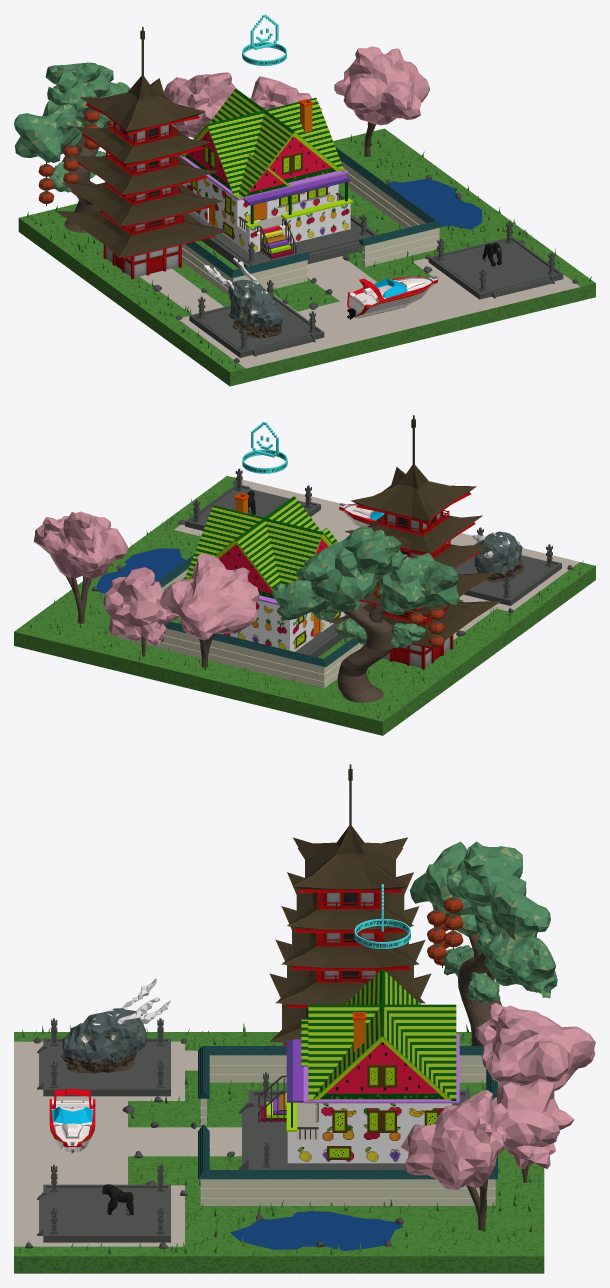
3 renders of one model, top to bottom at view 1: azimuth 30°, elevation 25°; view 2: azimuth 150°, elevation 25°; view 3: azimuth 270°, elevation 25°, orthographic. The views are drawn at different scales.
Visible parts, largest first — view 1: Cube.005, Cube.1063, OBJRANDOM_METEORITE, VEHICLES_BOAT, TYPE_PREMIUM; view 2: Cube.005, Cube.1063, OBJRANDOM_METEORITE, TYPE_PREMIUM, VEHICLES_BOAT; view 3: Cube.005, Cube.1063, OBJRANDOM_METEORITE, VEHICLES_BOAT, TYPE_PREMIUM.
Boxes of the visible parts, left/top/right/bottom form: Cube.005: left=14, top=26, right=595, bottom=386; Cube.1063: left=178, top=88, right=353, bottom=259; OBJRANDOM_METEORITE: left=204, top=257, right=283, bottom=338; VEHICLES_BOAT: left=347, top=276, right=437, bottom=319; TYPE_PREMIUM: left=242, top=14, right=286, bottom=65; Cube.005: left=14, top=415, right=595, bottom=735; Cube.1063: left=181, top=493, right=345, bottom=651; OBJRANDOM_METEORITE: left=472, top=531, right=524, bottom=582; TYPE_PREMIUM: left=242, top=421, right=287, bottom=473; VEHICLES_BOAT: left=339, top=503, right=384, bottom=527; Cube.005: left=14, top=764, right=595, bottom=1273; Cube.1063: left=258, top=969, right=459, bottom=1163; OBJRANDOM_METEORITE: left=61, top=978, right=170, bottom=1073; VEHICLES_BOAT: left=49, top=1089, right=95, bottom=1153; TYPE_PREMIUM: left=354, top=884, right=410, bottom=948.
Bounding box in the file's own units: 4528 × 2668 × 4389.
Materials: 40 (8 with a texture image).
